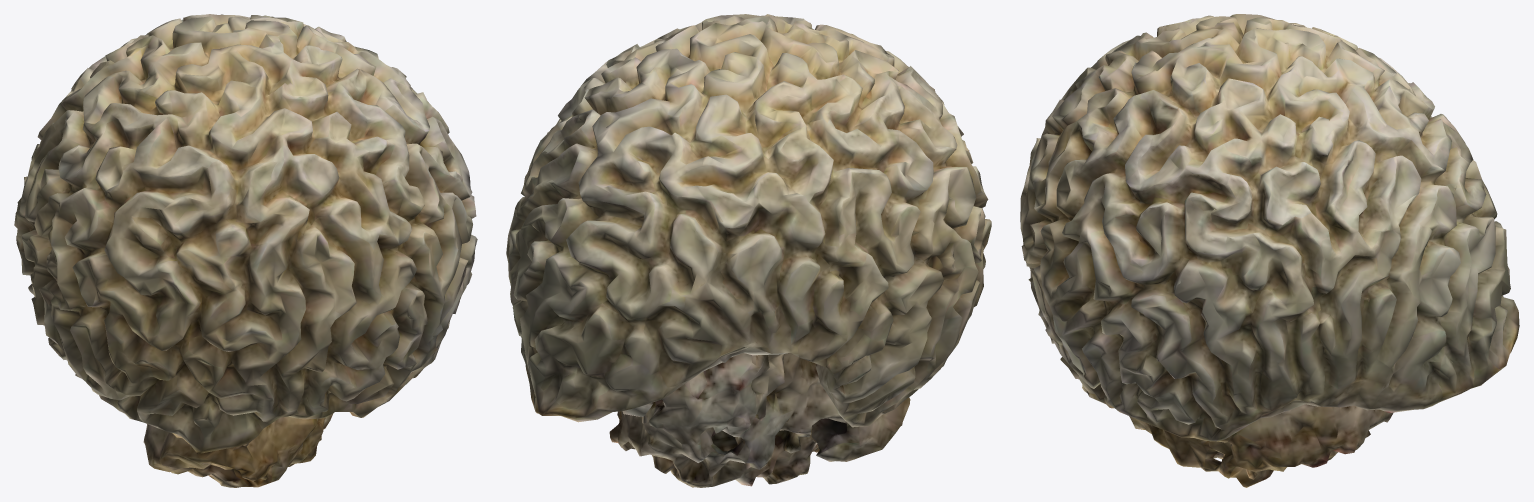
The model's file is diploria.glb.
The picture shows the model from 3 angles, left to right: view 1: azimuth 30°, elevation 25°; view 2: azimuth 150°, elevation 25°; view 3: azimuth 270°, elevation 25°; orthographic projection. The views are drawn at different scales.
Parts seen in each view (by area): view 1: Object_4; view 2: Object_4; view 3: Object_4.
Part boxes in pixels (bbox=[...]): Object_4: bbox=[14, 14, 477, 487]; Object_4: bbox=[506, 14, 991, 487]; Object_4: bbox=[1020, 14, 1519, 487].
Size of the model in its own units: 0.9299 by 0.9344 by 1.
1 material, 1 textured.
